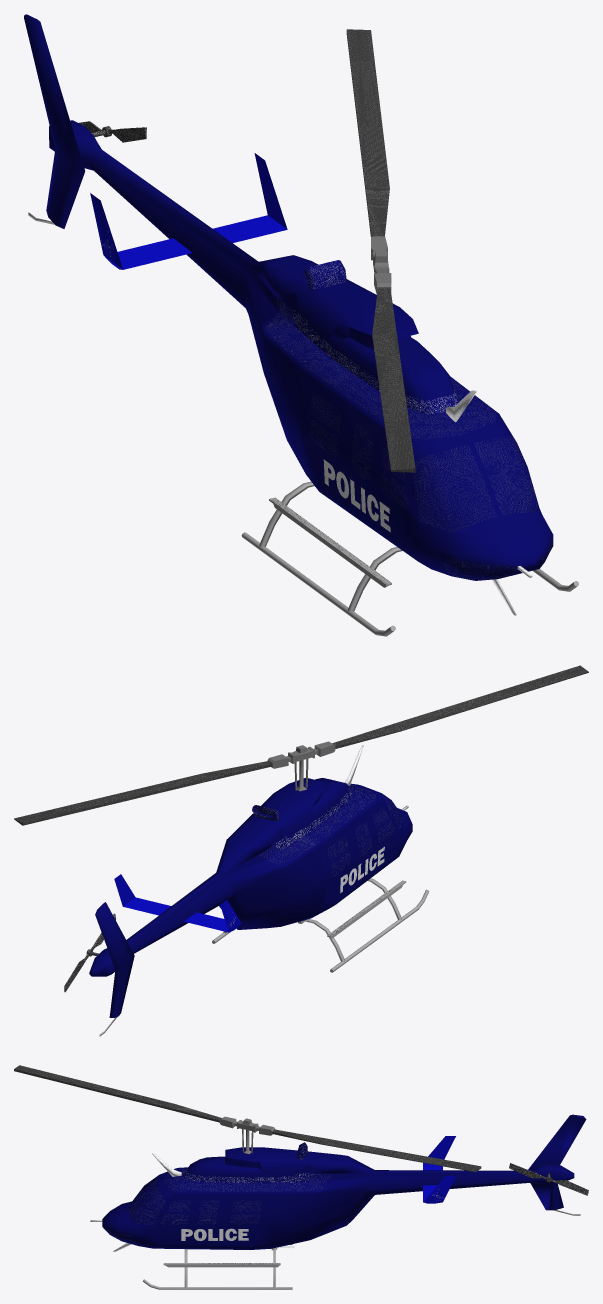
The model's file is PoliceHelicopter.fbx.
3 views of the same model, one above another, from view 1: azimuth 30°, elevation 25°; view 2: azimuth 150°, elevation 25°; view 3: azimuth 270°, elevation 25° (orthographic). The views are drawn at different scales.
Visible parts, largest first — view 1: Model, Blade1, Blade2, Group_5_1, Group_5_2, Group9, Group8, POLICE_3_1, Group3; view 2: Model, Blade2, Blade1, Group_5_1, Group_5_2, Group3, Group9, Group8, POLICE_3_1; view 3: Model, Blade2, Blade1, POLICE_2_1, Group11, Group_5_2, Group3, Group_5_1, Group10.
Boxes of the visible parts, box(x1,y1,x2,y2) form: Model: box(24, 14, 553, 580); Blade1: box(346, 29, 389, 236); Blade2: box(372, 288, 415, 472); Group_5_1: box(90, 193, 191, 269); Group_5_2: box(213, 153, 287, 242); Group9: box(269, 497, 391, 587); Group8: box(241, 532, 395, 636); POLICE_3_1: box(323, 459, 390, 532); Group3: box(371, 236, 391, 294); Model: box(89, 778, 412, 1017); Blade2: box(332, 665, 588, 748); Blade1: box(14, 761, 272, 825); Group_5_1: box(184, 900, 241, 932); Group_5_2: box(114, 874, 171, 915); Group3: box(267, 741, 335, 768); Group9: box(327, 880, 406, 939); Group8: box(330, 889, 429, 972); POLICE_3_1: box(340, 846, 384, 893); Model: box(102, 1114, 586, 1249); Blade2: box(14, 1065, 222, 1122); Blade1: box(272, 1129, 481, 1172); POLICE_2_1: box(181, 1228, 248, 1241); Group11: box(163, 1263, 280, 1267); Group_5_2: box(423, 1176, 455, 1203); Group3: box(220, 1116, 275, 1135); Group_5_1: box(423, 1136, 455, 1170); Group10: box(143, 1279, 292, 1289).
Bounding box in the file's own units: 5.43 × 3.56 × 12.39.
